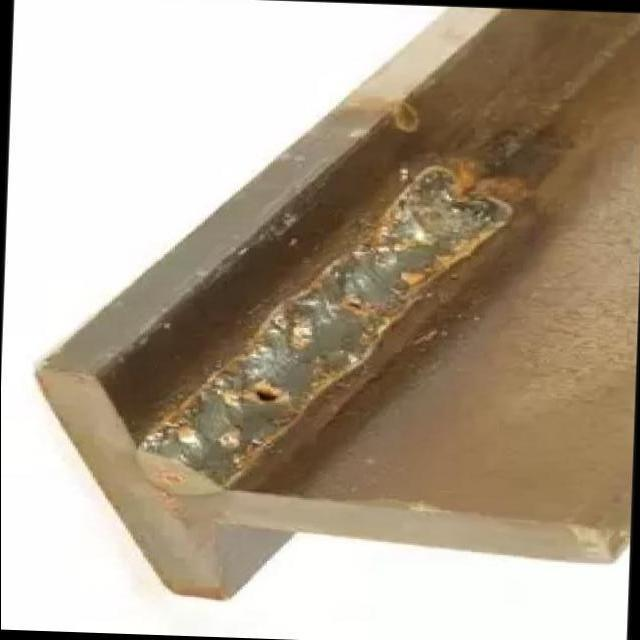defect: (252, 385, 286, 404), (344, 297, 373, 315)
